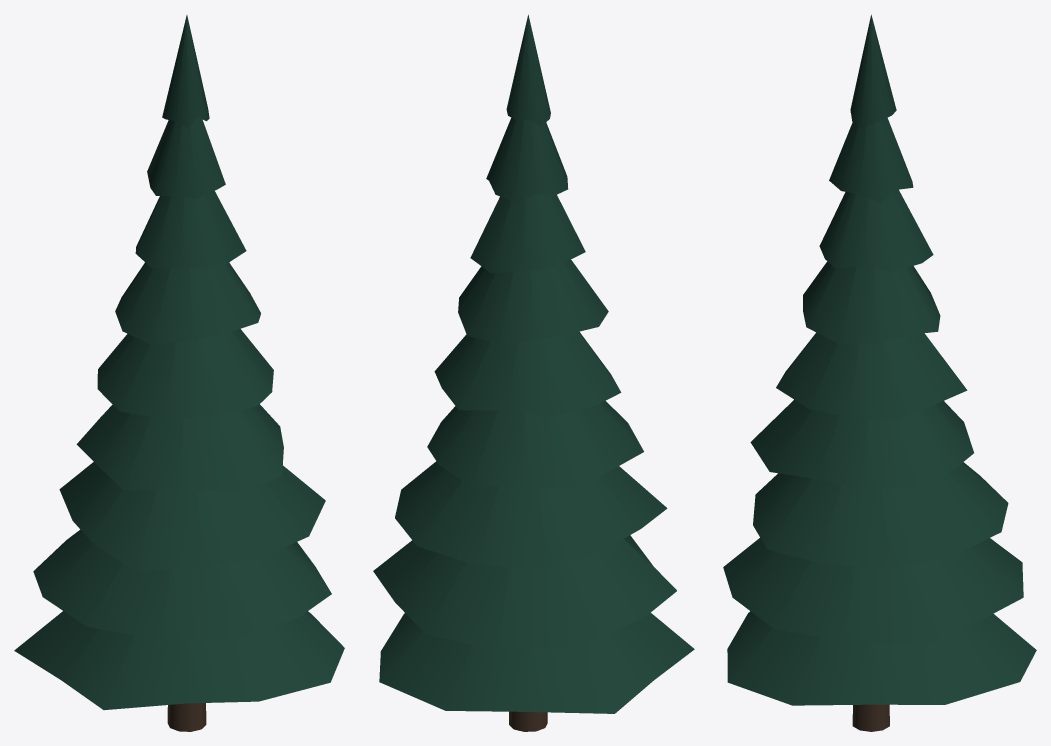
Rendered from spruce.glb.
The picture shows the model from 3 angles, left to right: view 1: azimuth 30°, elevation 25°; view 2: azimuth 150°, elevation 25°; view 3: azimuth 270°, elevation 25°; orthographic projection.
Visible parts, largest first — view 1: Spruce; view 2: Spruce; view 3: Spruce.
Boxes of the visible parts, left/top/right/bottom form: Spruce: left=14, top=15, right=344, bottom=731; Spruce: left=373, top=14, right=694, bottom=731; Spruce: left=723, top=14, right=1036, bottom=731.
Size of the model in its own units: 4.59 by 12 by 4.81.
